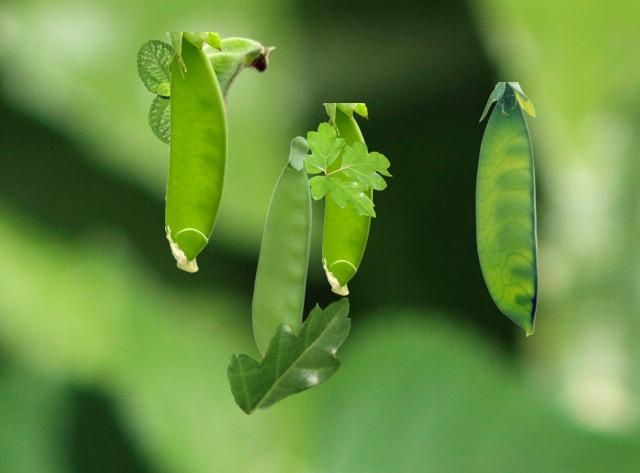pea: (164, 36, 275, 202), (475, 82, 536, 335), (165, 32, 226, 271), (251, 135, 311, 357), (322, 103, 371, 294)
